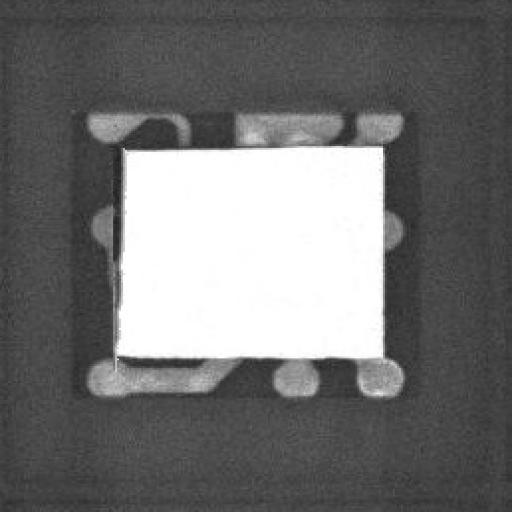DIE_BROKEN: (105, 138, 125, 349)
